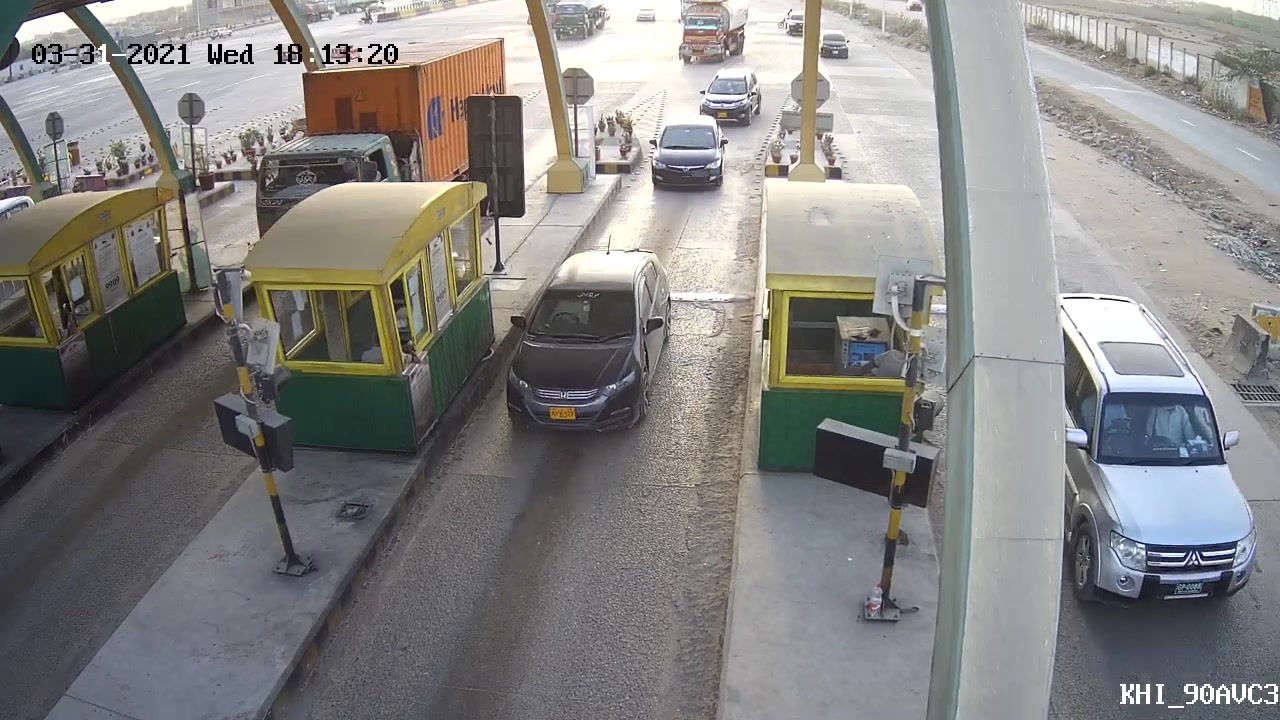F1: (500, 231, 675, 439)
